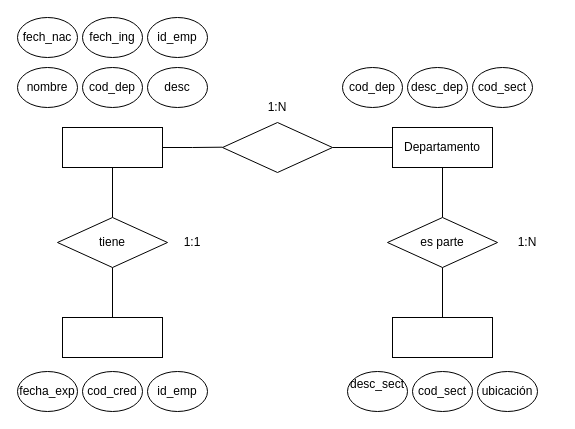
This 575x429 diagram has some shape labels left out. The shapes that lost their labels are listed below. From the top down, each one's box as (x1, y1, x2, y2) in pixels, then its label:
(62, 126, 162, 168): Empleado
(222, 122, 332, 172): pertenece
(62, 316, 162, 358): Credencial
(392, 316, 492, 358): Sector
